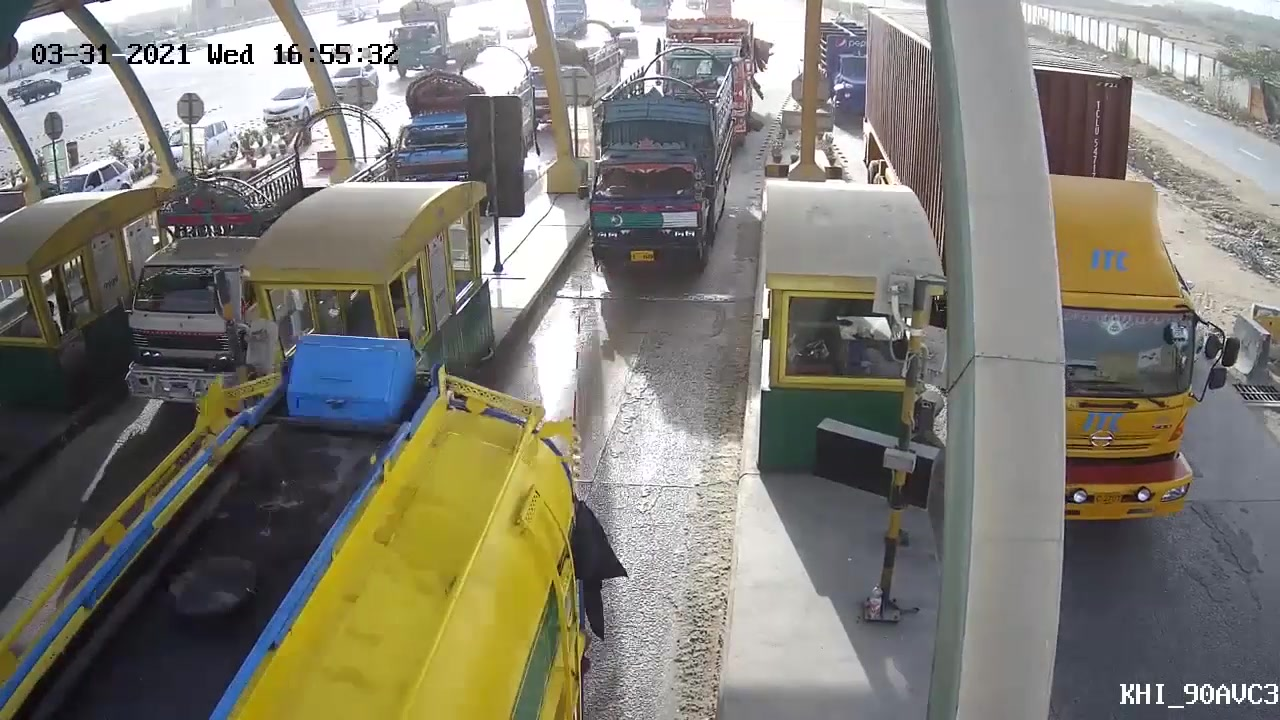F5: (544, 46, 754, 286)
